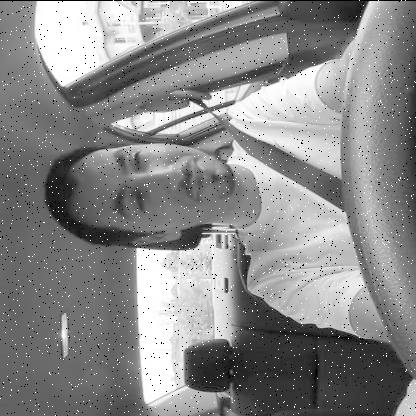seatbelt: (42, 84, 416, 256)
